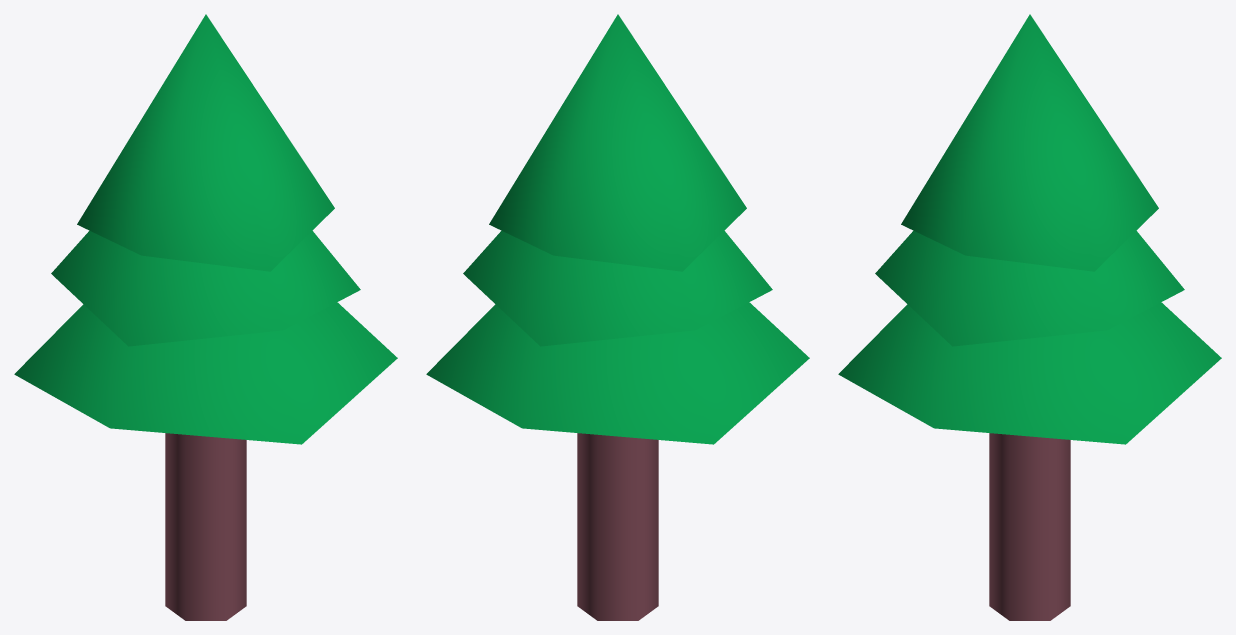
File: snowboard tree.glb
3 renders of one model, left to right at view 1: azimuth 30°, elevation 25°; view 2: azimuth 150°, elevation 25°; view 3: azimuth 270°, elevation 25°, orthographic.
Visible parts, largest first — view 1: Cylinder; view 2: Cylinder; view 3: Cylinder.
Part boxes in pixels (x1,y1,x2,y2): Cylinder: [14, 14, 397, 620]; Cylinder: [426, 14, 809, 620]; Cylinder: [838, 14, 1221, 620].
Size of the model in its own units: 7.38 by 14.51 by 8.52.
